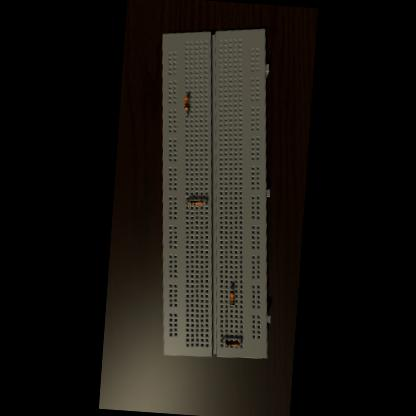breadboard: (140, 21, 290, 362)
resistor: (184, 94, 190, 110), (229, 290, 235, 306), (190, 199, 204, 205), (224, 340, 238, 346)
wire: (221, 338, 224, 342), (186, 110, 188, 115), (240, 340, 242, 344), (231, 286, 232, 290), (230, 305, 232, 307), (186, 201, 189, 202), (203, 201, 206, 202), (186, 94, 186, 94)
